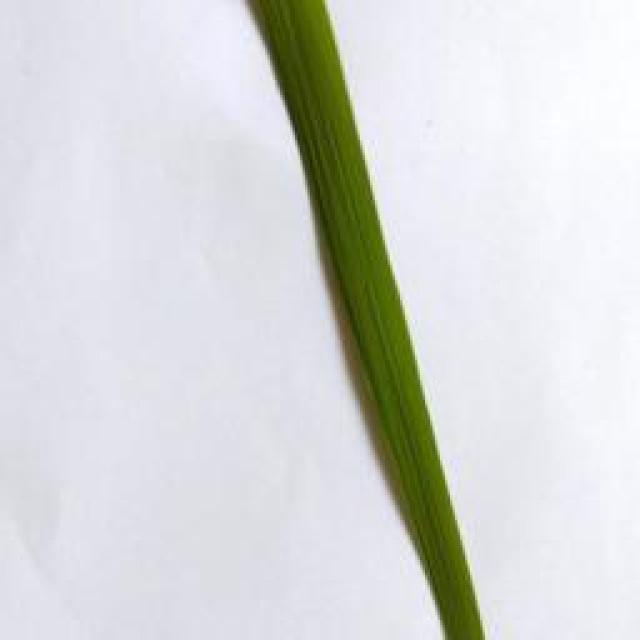Healthy-Plant: (241, 0, 505, 640)
